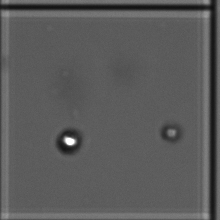Living Cell: (54, 123, 85, 158), (160, 121, 183, 143)
